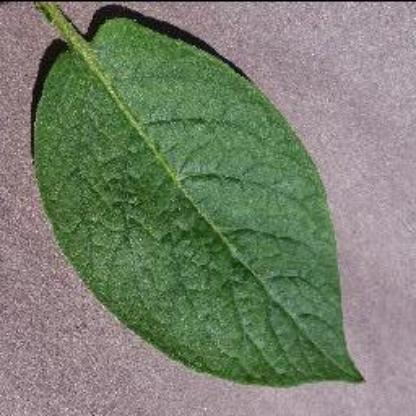Healthy-plant: (19, 1, 377, 388)
